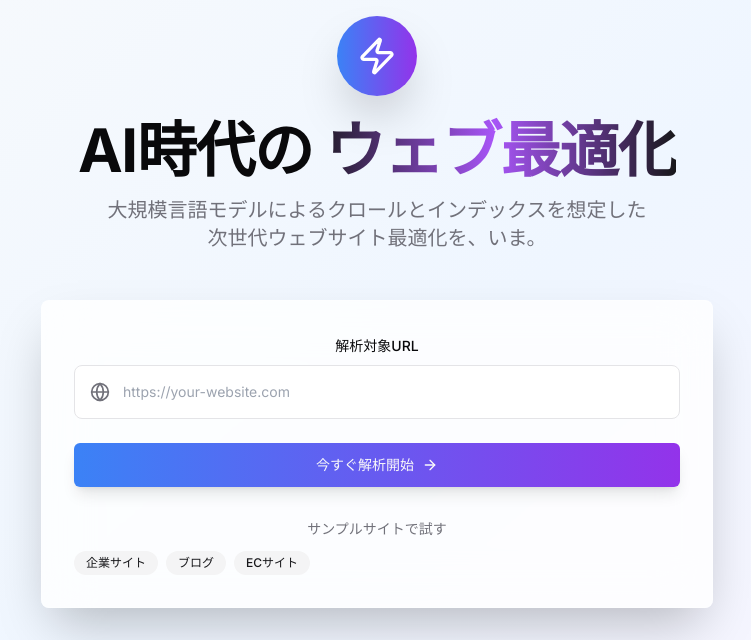
Test: UrlInput Component › should show error for empty input
The width and height of the screenshot is (751, 640).
Step 1. Click the button "今すぐ解析開始" → (377, 465), box left=74, top=443, right=680, bottom=487
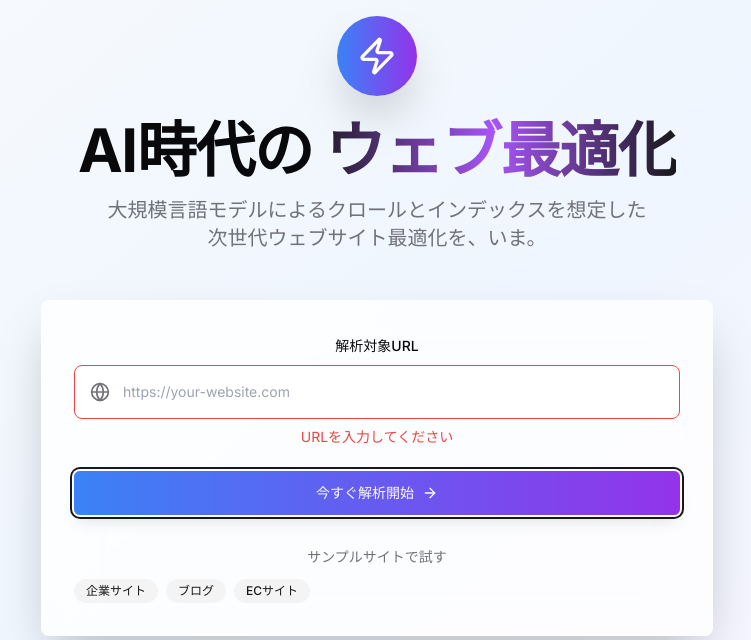
Now the text "URLを入力してください" is shown, box left=301, top=428, right=453, bottom=445
